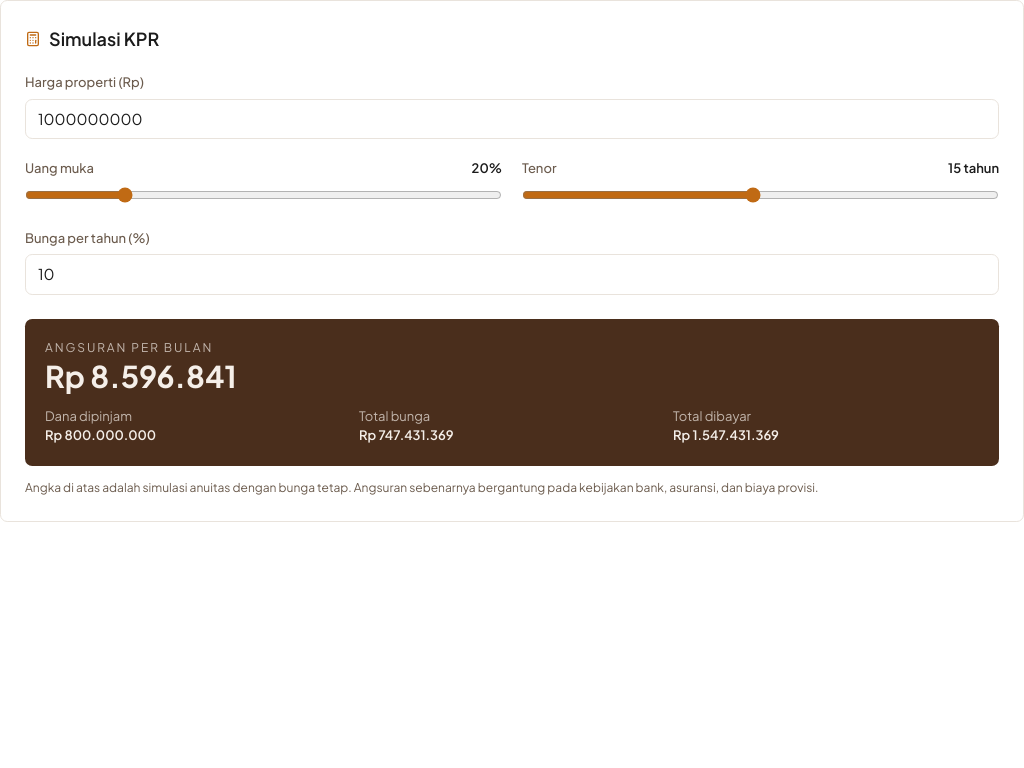
Test: MortgageCalculator › recalculates when the down payment changes
Set the slider labelled "Uang muka 20%" to "30" at [171, 194], box [25,186,502,202]
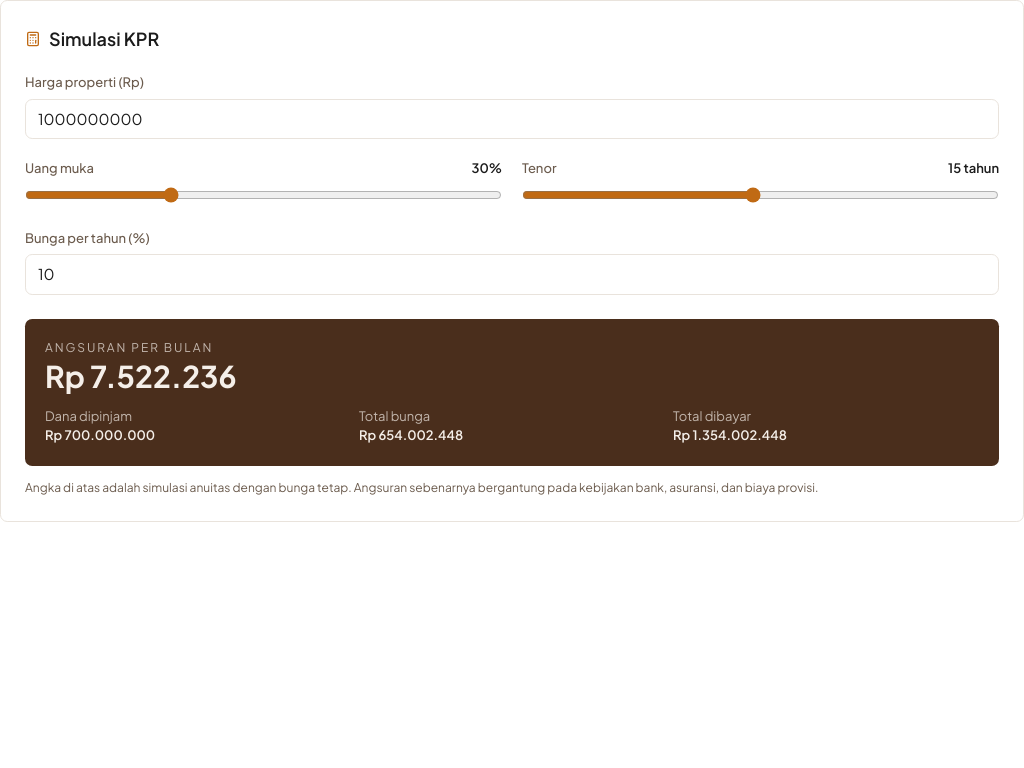
Now the text "Rp 7.522.236" is shown, box [45,356,236,394]
